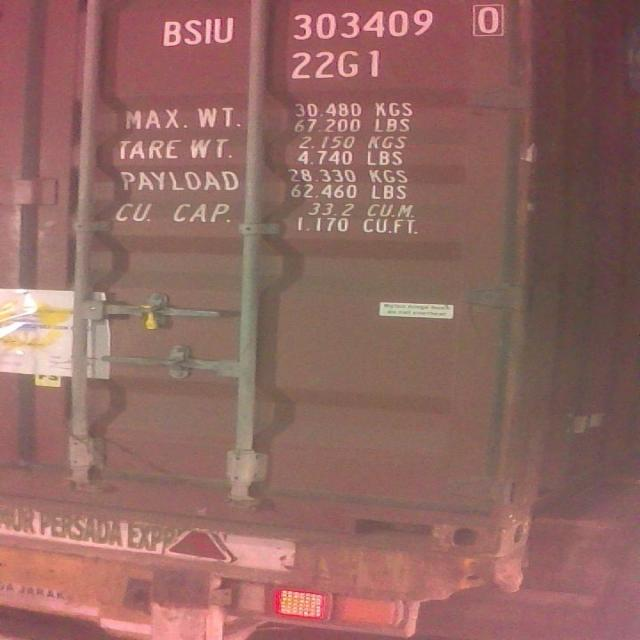seal: (139, 300, 161, 329)
